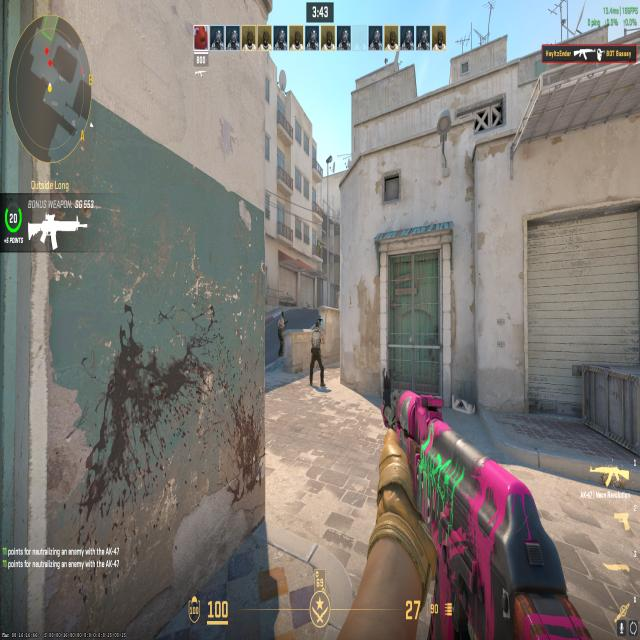t: (306, 318, 327, 391), (276, 309, 286, 356)
